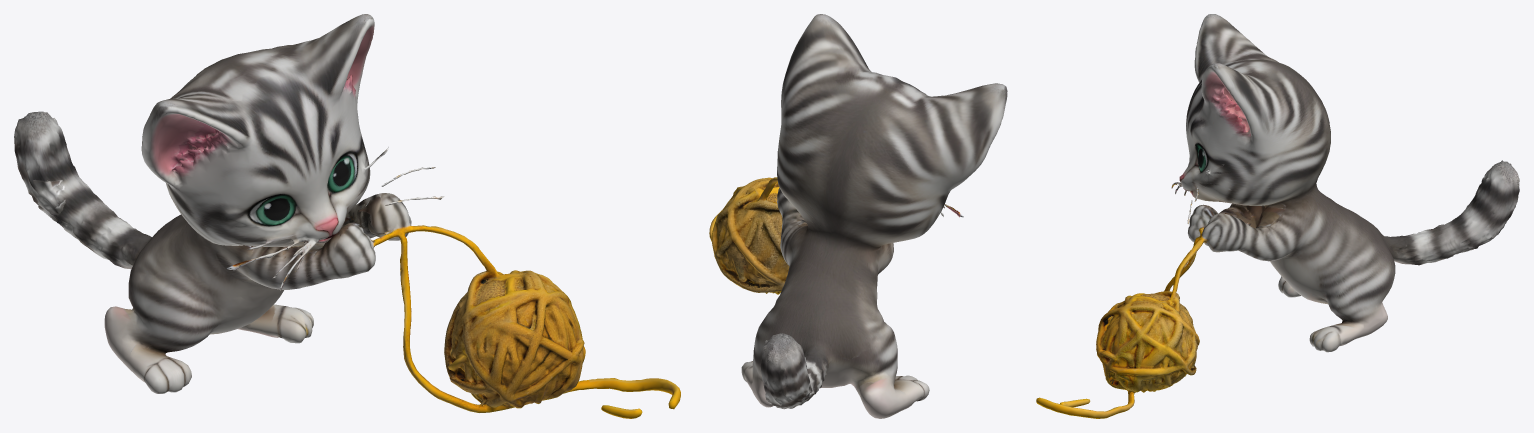
File: kitten.glb
3 views of the same model, side by side, from view 1: azimuth 30°, elevation 25°; view 2: azimuth 150°, elevation 25°; view 3: azimuth 270°, elevation 25° (orthographic). The views are drawn at different scales.
Bounding box in the file's own units: 1.49 × 1.25 × 1.91.
Materials: 1 (1 with a texture image).
